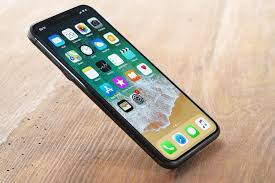iphone: (23, 1, 223, 168)
iphone10: (23, 2, 223, 169)
